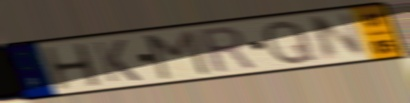H: (40, 41, 105, 92)
K: (90, 38, 144, 85)
M: (144, 28, 214, 82)
N: (307, 9, 370, 64)
Q: (261, 18, 319, 66)
R: (195, 24, 260, 75)
